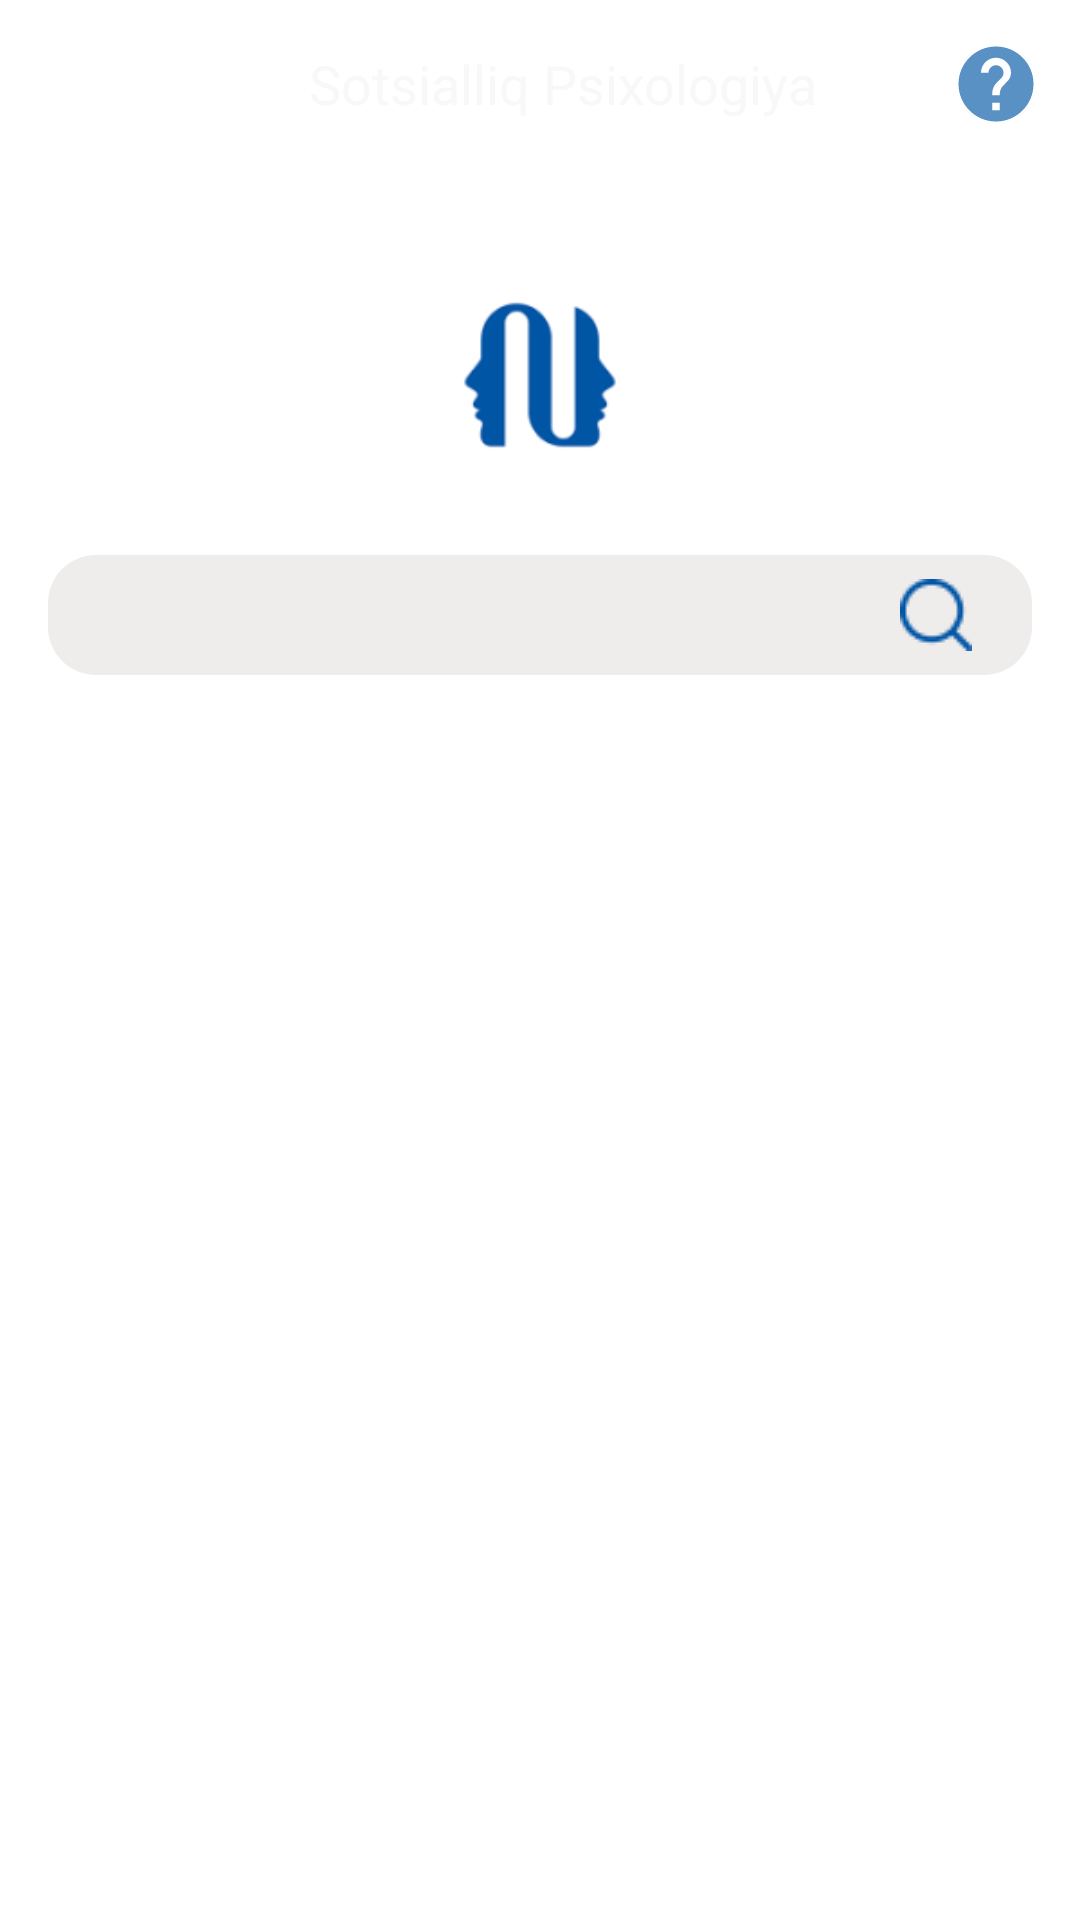

Icon click points for this 1080w x 1920h phone screenshot, format [x,y]:
questions: [996,84]
search: [936,615]
